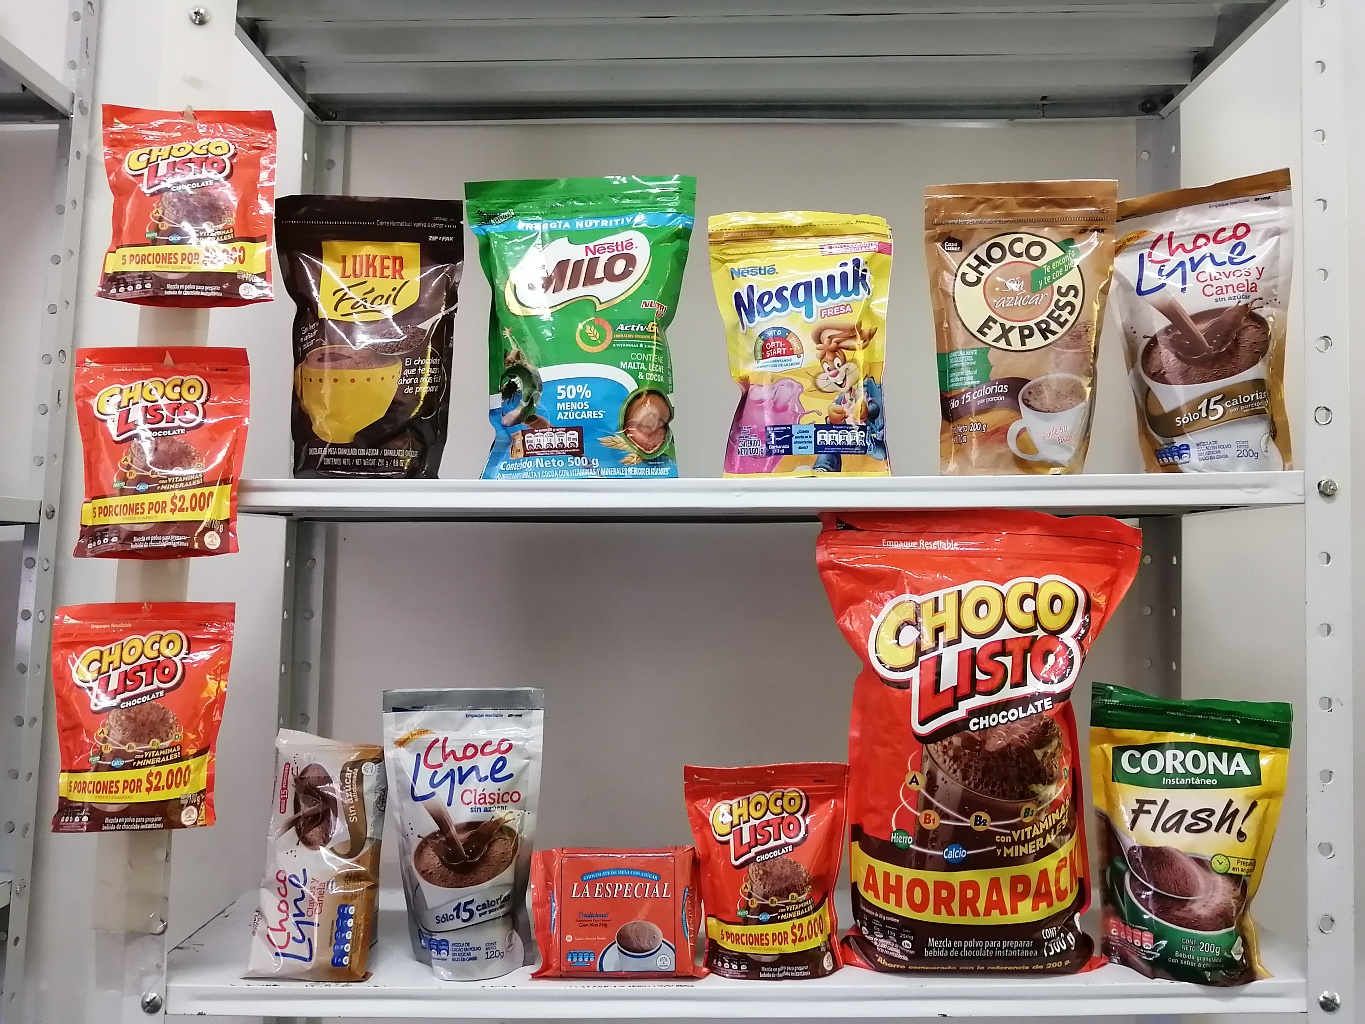COL0170103DYP1,500: (799, 513, 1138, 989)
COL0170205DYP50000: (456, 156, 700, 477)
COL0170305DYP20000: (697, 203, 918, 478)
